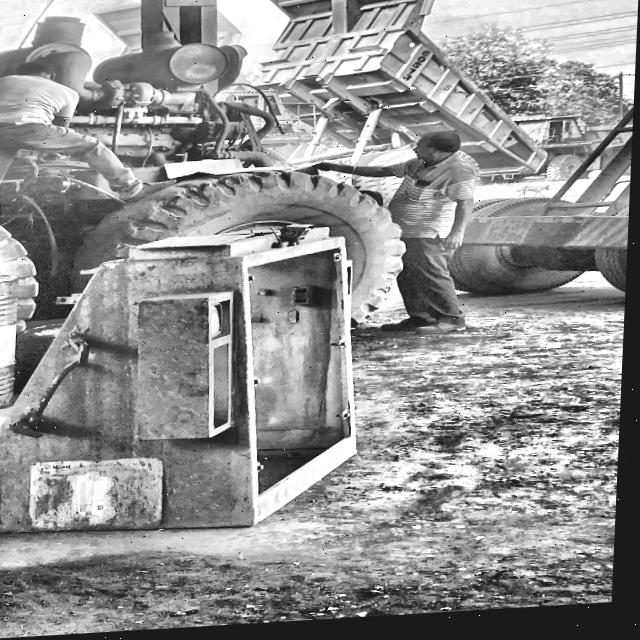dump_truck: (220, 0, 521, 181)
